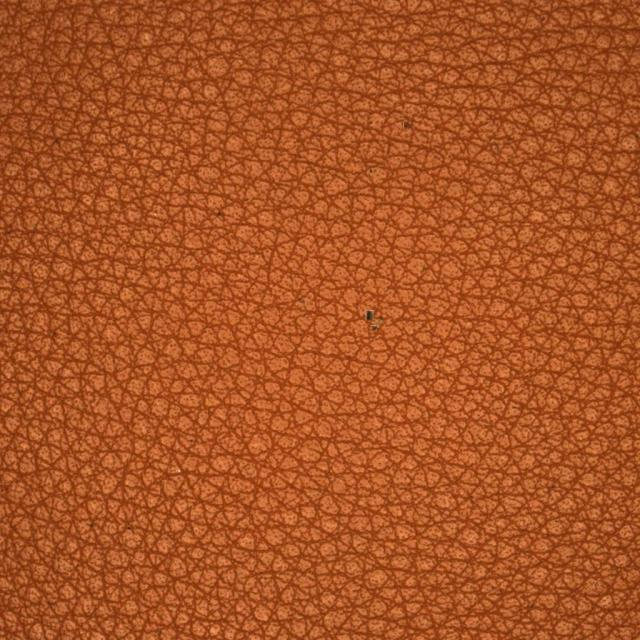Hole: (288, 254, 438, 377)
pinhole: (339, 73, 473, 175)
